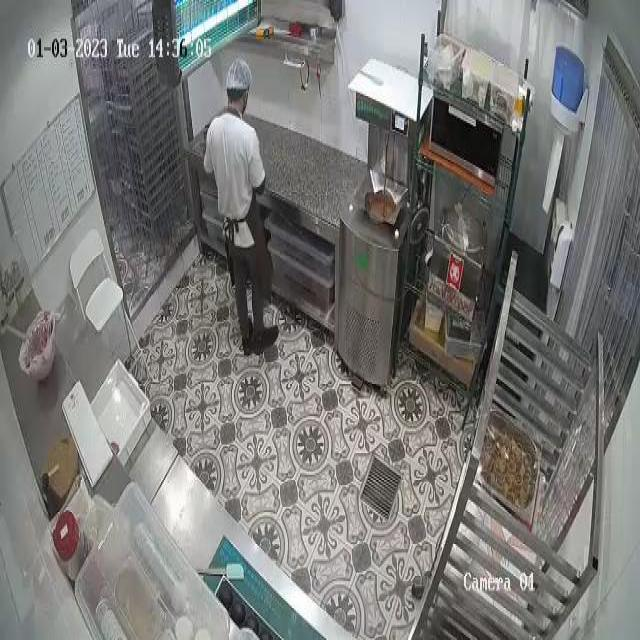hairnet: (228, 59, 252, 92)
